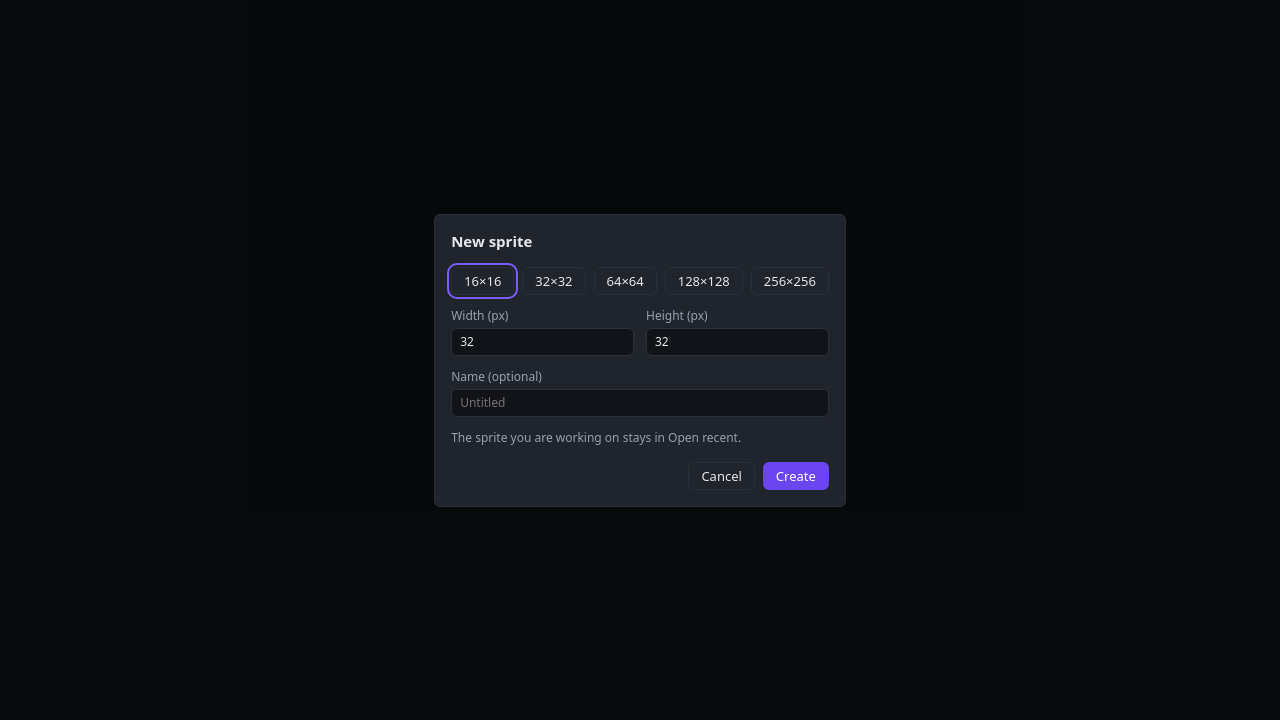
Test: NewSpriteDialog › shows an error and keeps the dialog open for an invalid size
The width and height of the screenshot is (1280, 720).
Replace the text in the number field labelled "Width (px)" with "0" at [543, 342], box [451,328,634,356]
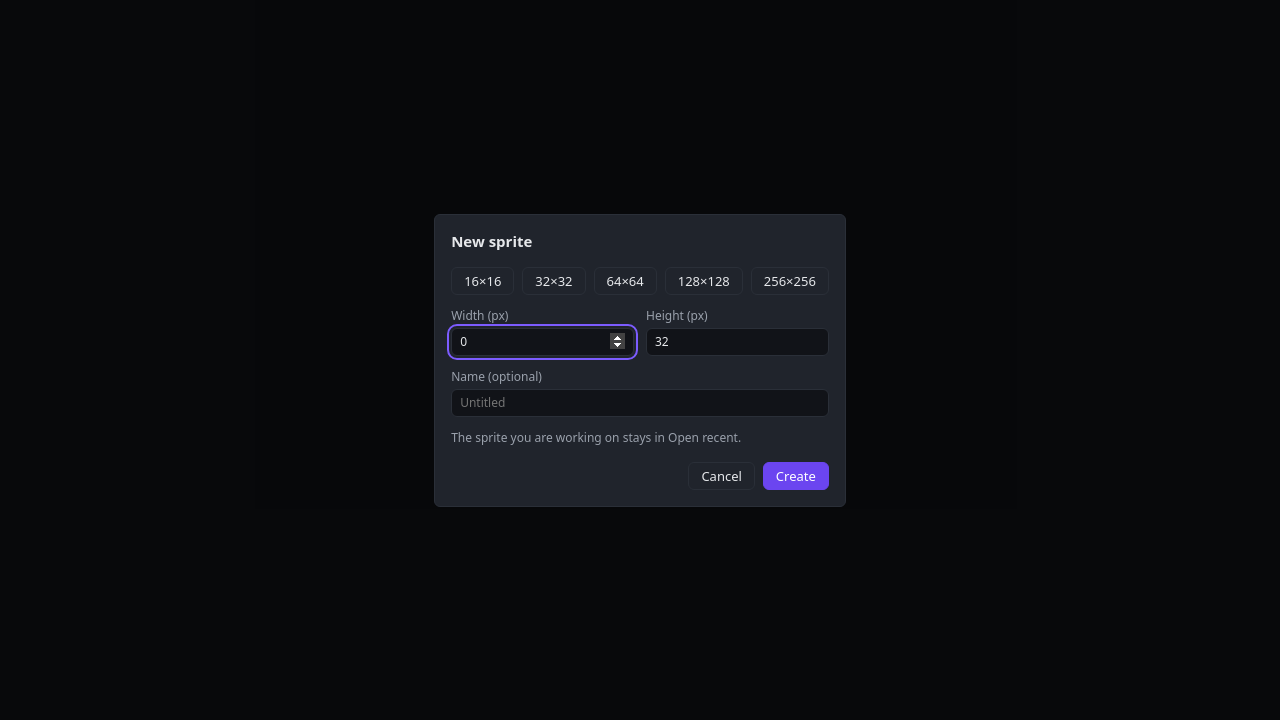
Click the button "Create".
click(796, 476)  # box [763,462,829,490]
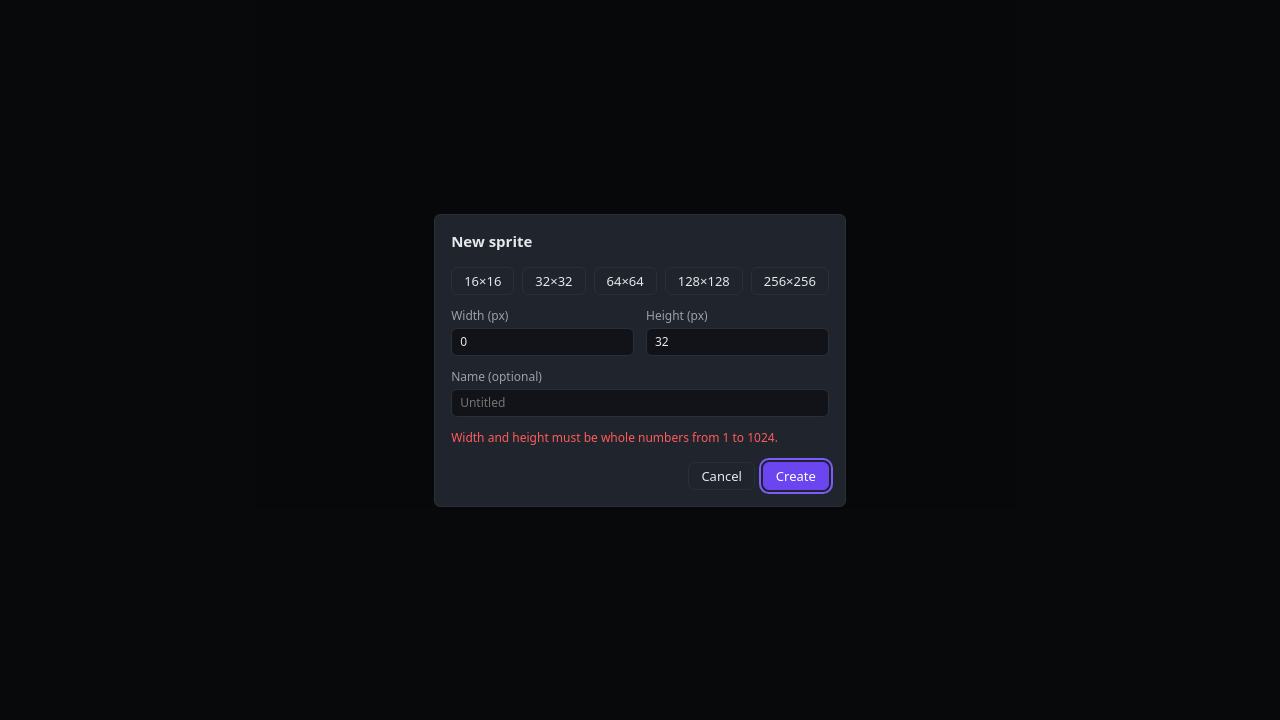
Expected: the message shows "from 1 to 1024", [451,428,778,446]
